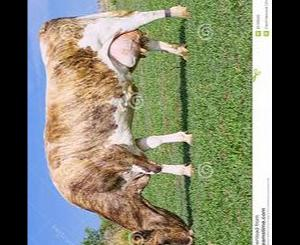cow: (37, 3, 195, 245)
